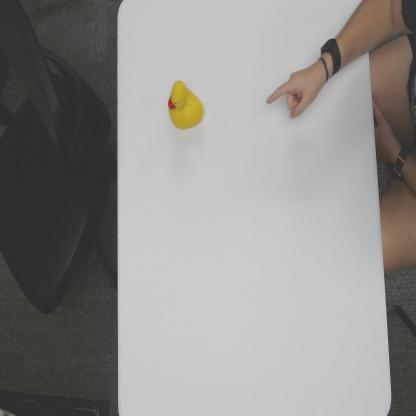Arm: (341, 0, 373, 71)
Duck: (167, 75, 205, 132)
Hand: (264, 57, 326, 120)
